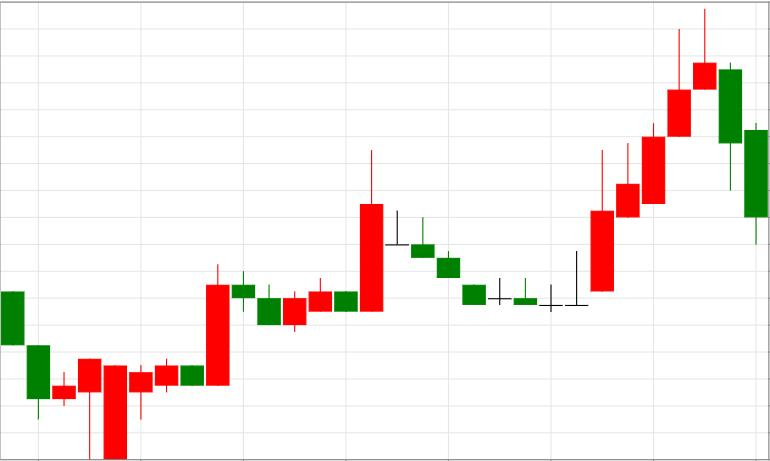hammer_rise: (1, 291, 101, 459)
shooting_star_fall: (591, 9, 717, 293)
